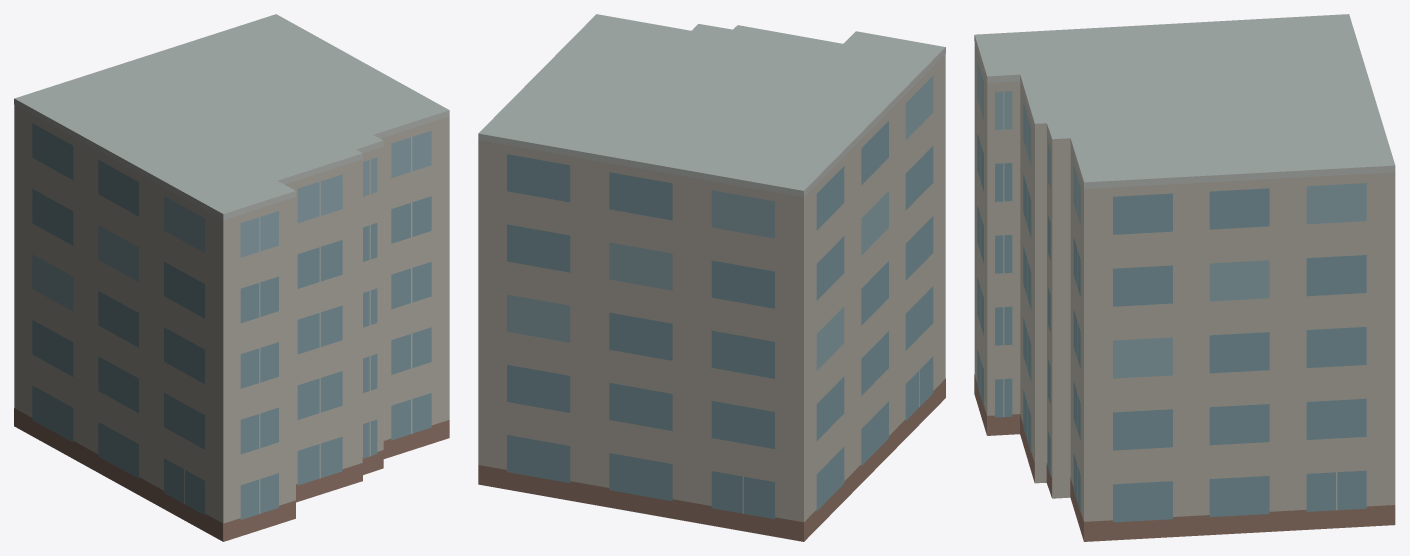
File: survey-upis-32699420.glb
The picture shows the model from 3 angles, left to right: view 1: azimuth 30°, elevation 25°; view 2: azimuth 150°, elevation 25°; view 3: azimuth 270°, elevation 25°; orthographic projection. The views are drawn at different scales.
Parts seen in each view (by area): view 1: survey-upis-32699420.tmp; view 2: survey-upis-32699420.tmp; view 3: survey-upis-32699420.tmp.
Boxes of the visible parts, box(x1,y1,x2,y2) form: survey-upis-32699420.tmp: box(14, 14, 449, 541); survey-upis-32699420.tmp: box(478, 14, 945, 541); survey-upis-32699420.tmp: box(974, 14, 1395, 541).
Bounding box in the file's own units: 13.27 × 13.2 × 14.02.
